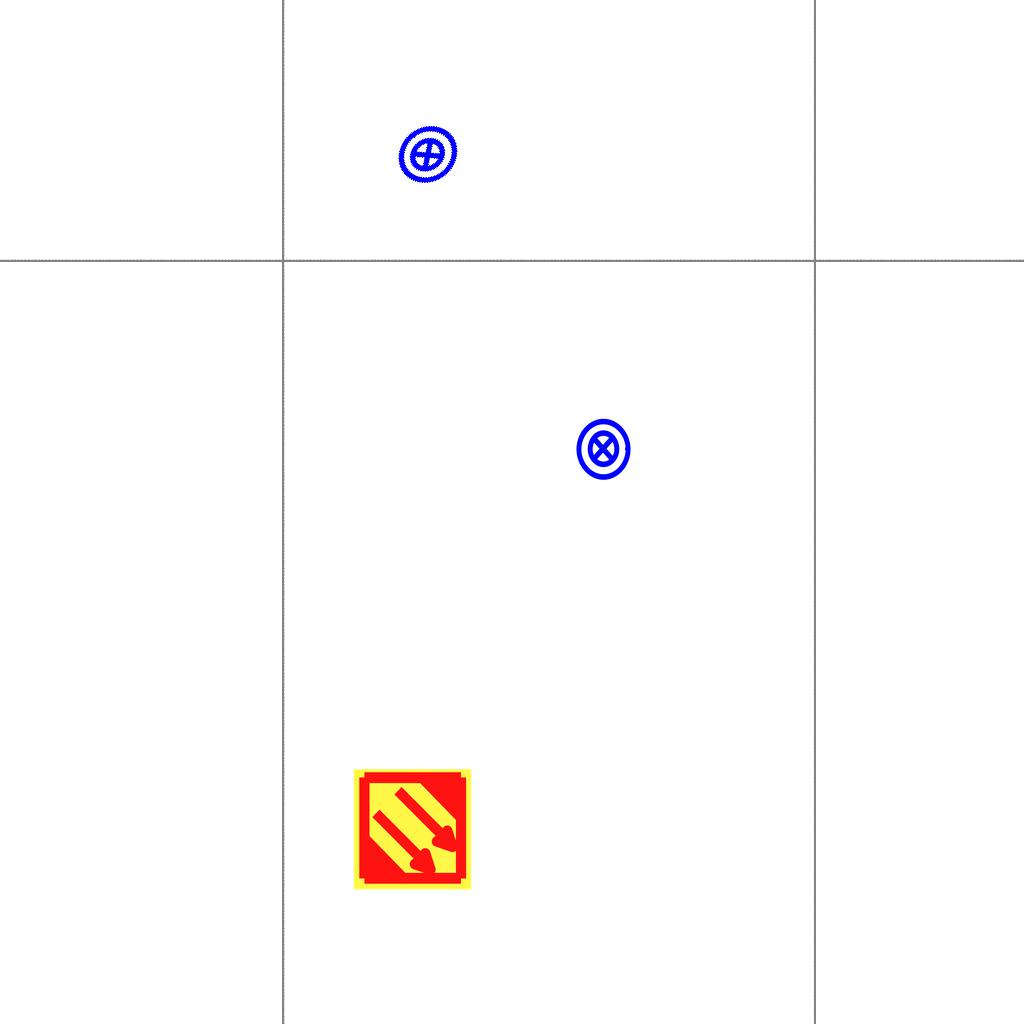ASR_Ansaugrauchmelder: (350, 767, 475, 892)
Taster_beleuchtet: (381, 108, 475, 202), (570, 416, 636, 482)
